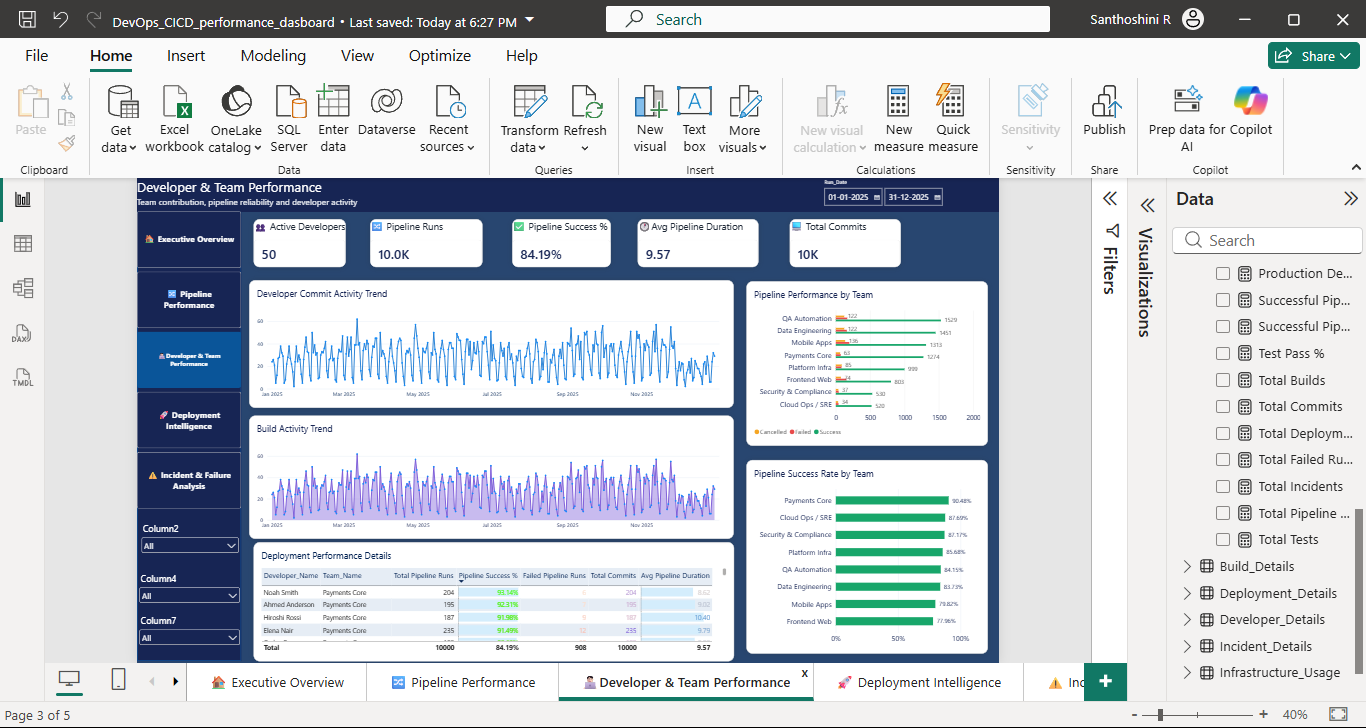

What the dashboard file says about the page in this screenshot:
{"tool":"powerbi","page":{"name":"🧑🏻💻Developer & Team Performance","canvas":[1920,1080],"ordinal":2},"visuals":[{"type":"shape","box":[0,75.4,232,999],"z":0},{"type":"shape","title":"Developer & Team Performance","box":[0,0,1920.3,75.4],"z":1000},{"type":"slicer","title":"Deployment Date","fields":{"Values":["Pipeline_Runs.Run_Date"]},"box":[1522.7,0,311.9,73.4],"z":2000},{"type":"slicer","title":"Environment","fields":{"Values":["Application_Details.Column2"]},"box":[6.1,767.5,226.2,72.9],"z":3000},{"type":"slicer","title":"Application ID","fields":{"Values":["Application_Details.Column7"]},"box":[0,972.3,233.8,77.9],"z":4000},{"type":"slicer","title":"Deployment Status","fields":{"Values":["Application_Details.Column4"]},"box":[0,877.5,233.8,72.9],"z":5000},{"type":"cardVisual","title":"👥 Active Developers","fields":{"Data":["Application_Details.Active Developers"]},"box":[259.9,91.7,205,107],"z":6000},{"type":"pageNavigator","box":[0,73.4,232.4,666.6],"z":7000},{"type":"cardVisual","title":"🔀 Pipeline Runs","fields":{"Data":["Application_Details.Total Pipeline Runs"]},"box":[519.8,91.7,250.7,107],"z":8000},{"type":"cardVisual","title":"✅ Pipeline Success %","fields":{"Data":["Application_Details.Pipeline Success %"]},"box":[834.7,91.7,220.1,107],"z":9000},{"type":"cardVisual","title":"🕐Avg Pipeline Duration","fields":{"Data":["Application_Details.Avg Pipeline Duration"]},"box":[1116,91.7,269.1,107],"z":10000},{"type":"cardVisual","title":"💻 Total Commits","fields":{"Data":["Application_Details.Total Commits"]},"box":[1452.4,91.7,247.7,107],"z":11000},{"type":"tableEx","title":"Deployment Performance Details","fields":{"Values":["Developer_Details.Developer_Name","Developer_Details.Team_Name","Application_Details.Total Pipeline Runs","Application_Details.Pipeline Success %","Application_Details.Failed Pipeline Runs","Application_Details.Total Commits","Application_Details.Avg Pipeline Duration"]},"box":[259.9,810.3,1070.2,266],"z":12000},{"type":"clusteredBarChart","title":"Pipeline Performance by Team","fields":{"Category":["Developer_Details.Team_Name"],"Series":["Pipeline_Runs.Pipeline_Status"],"Y":["Application_Details.Total Pipeline Runs"]},"box":[1357.6,229.3,538.1,366.9],"z":13000},{"type":"lineChart","title":"Developer Commit Activity Trend","fields":{"Category":["Pipeline_Runs.Run_Date.Variation.Date Hierarchy.Year","Pipeline_Runs.Run_Date.Variation.Date Hierarchy.Month","Pipeline_Runs.Run_Date.Variation.Date Hierarchy.Day"],"Y":["Application_Details.Total Commits"]},"box":[250.7,226.3,1079.3,284.4],"z":14000},{"type":"lineChart","title":"Build Activity Trend","fields":{"Category":["Build_Details.Build_Date.Variation.Date Hierarchy.Year","Build_Details.Build_Date.Variation.Date Hierarchy.Month","Build_Details.Build_Date.Variation.Date Hierarchy.Day"],"Y":["Application_Details.Total Builds"]},"box":[250.7,529,1079.3,275.2],"z":15000},{"type":"barChart","title":"Pipeline Success Rate by Team","fields":{"Category":["Developer_Details.Team_Name"],"Y":["Application_Details.Pipeline Success %"]},"box":[1357.6,626.8,538.1,431.1],"z":16000}]}

Visuals, with their boxes on the page's 1920x1080 design canvas (x1, y1, x2, y2). These are canvas units, not pixel positions in the 1366x728 screenshot, which may show the page scaled, cropped or inside an application window:
shape: {"left": 0, "top": 75, "right": 232, "bottom": 1074}
"Developer & Team Performance" shape: {"left": 0, "top": 0, "right": 1920, "bottom": 75}
"Deployment Date" slicer: {"left": 1523, "top": 0, "right": 1835, "bottom": 73}
"Environment" slicer: {"left": 6, "top": 768, "right": 232, "bottom": 840}
"Application ID" slicer: {"left": 0, "top": 972, "right": 234, "bottom": 1050}
"Deployment Status" slicer: {"left": 0, "top": 878, "right": 234, "bottom": 950}
"👥 Active Developers" cardVisual: {"left": 260, "top": 92, "right": 465, "bottom": 199}
pageNavigator: {"left": 0, "top": 73, "right": 232, "bottom": 740}
"🔀 Pipeline Runs" cardVisual: {"left": 520, "top": 92, "right": 770, "bottom": 199}
"✅ Pipeline Success %" cardVisual: {"left": 835, "top": 92, "right": 1055, "bottom": 199}
"🕐Avg Pipeline Duration" cardVisual: {"left": 1116, "top": 92, "right": 1385, "bottom": 199}
"💻 Total Commits" cardVisual: {"left": 1452, "top": 92, "right": 1700, "bottom": 199}
"Deployment Performance Details" tableEx: {"left": 260, "top": 810, "right": 1330, "bottom": 1076}
"Pipeline Performance by Team" clusteredBarChart: {"left": 1358, "top": 229, "right": 1896, "bottom": 596}
"Developer Commit Activity Trend" lineChart: {"left": 251, "top": 226, "right": 1330, "bottom": 511}
"Build Activity Trend" lineChart: {"left": 251, "top": 529, "right": 1330, "bottom": 804}
"Pipeline Success Rate by Team" barChart: {"left": 1358, "top": 627, "right": 1896, "bottom": 1058}
